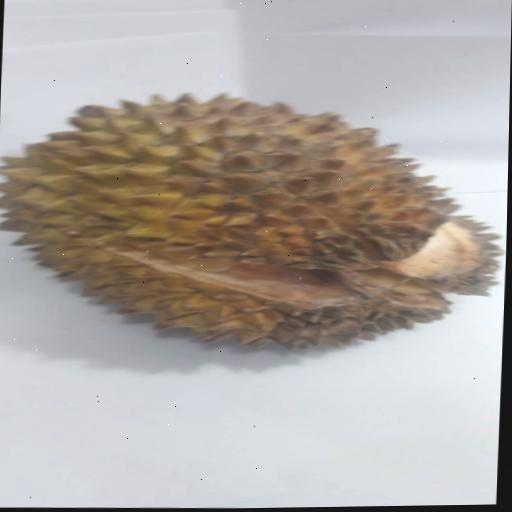rot: (0, 70, 510, 369)
